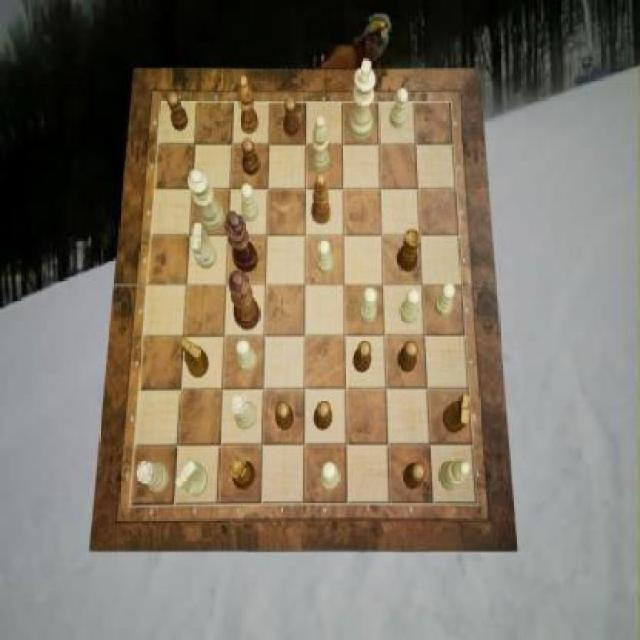bishop: (240, 75, 260, 134), (311, 174, 331, 226)
black-bishop: (226, 211, 260, 272)
black-king: (180, 338, 209, 378), (443, 394, 471, 432)
black-knight: (168, 92, 188, 132), (397, 338, 418, 372), (403, 463, 426, 491), (284, 97, 300, 137), (242, 139, 259, 176), (314, 400, 333, 431), (354, 338, 371, 372), (276, 402, 294, 431)
black-pawn: (228, 271, 260, 331)
black-queen: (397, 228, 420, 272), (231, 457, 255, 491)
black-rook: (311, 115, 331, 173), (440, 460, 471, 491)
white-bishop: (349, 58, 376, 141)
white-king: (176, 460, 208, 496), (192, 223, 217, 269)
white-knight: (358, 288, 378, 324), (400, 289, 420, 324), (436, 283, 456, 318), (391, 88, 408, 129), (236, 338, 256, 372), (240, 185, 258, 222), (317, 239, 334, 273), (320, 463, 340, 491)
white-pawn: (188, 168, 225, 232)
white-queen: (137, 460, 170, 494), (231, 394, 257, 430)
